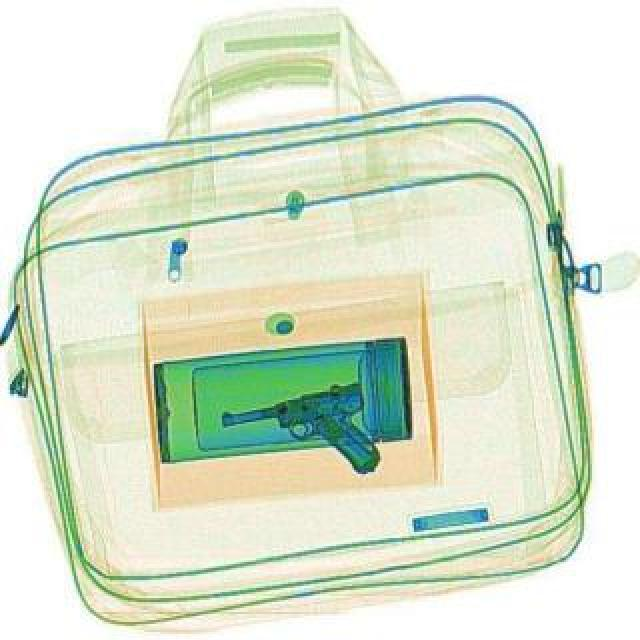gun: (214, 376, 382, 496)
